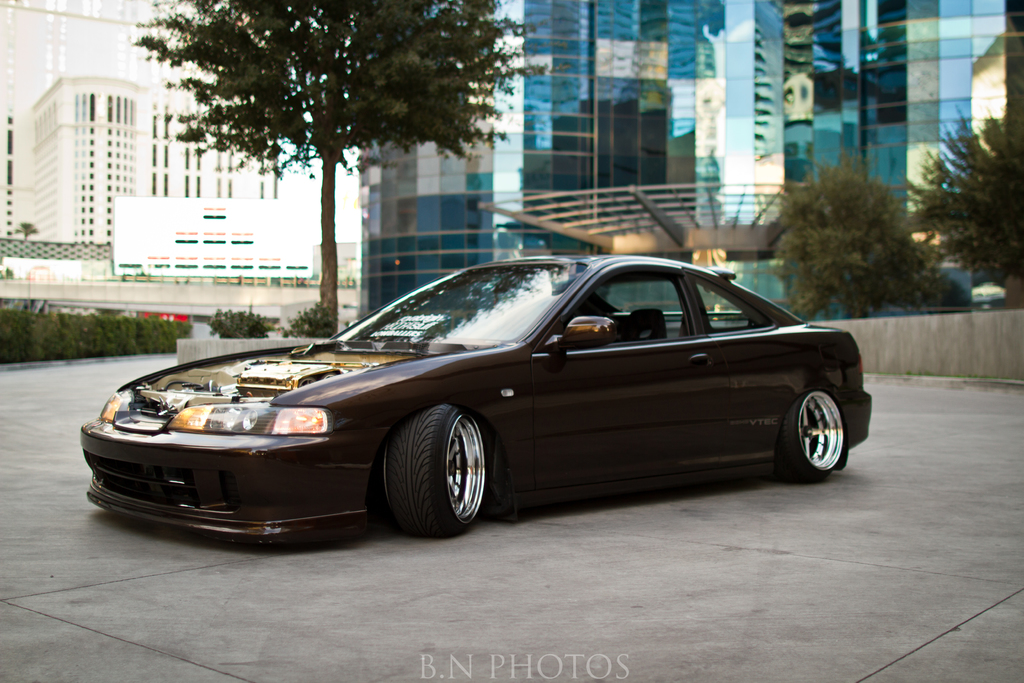Car: (67, 251, 876, 552)
